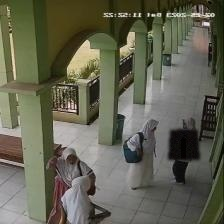Cadar_Niqab: (168, 115, 199, 159)
